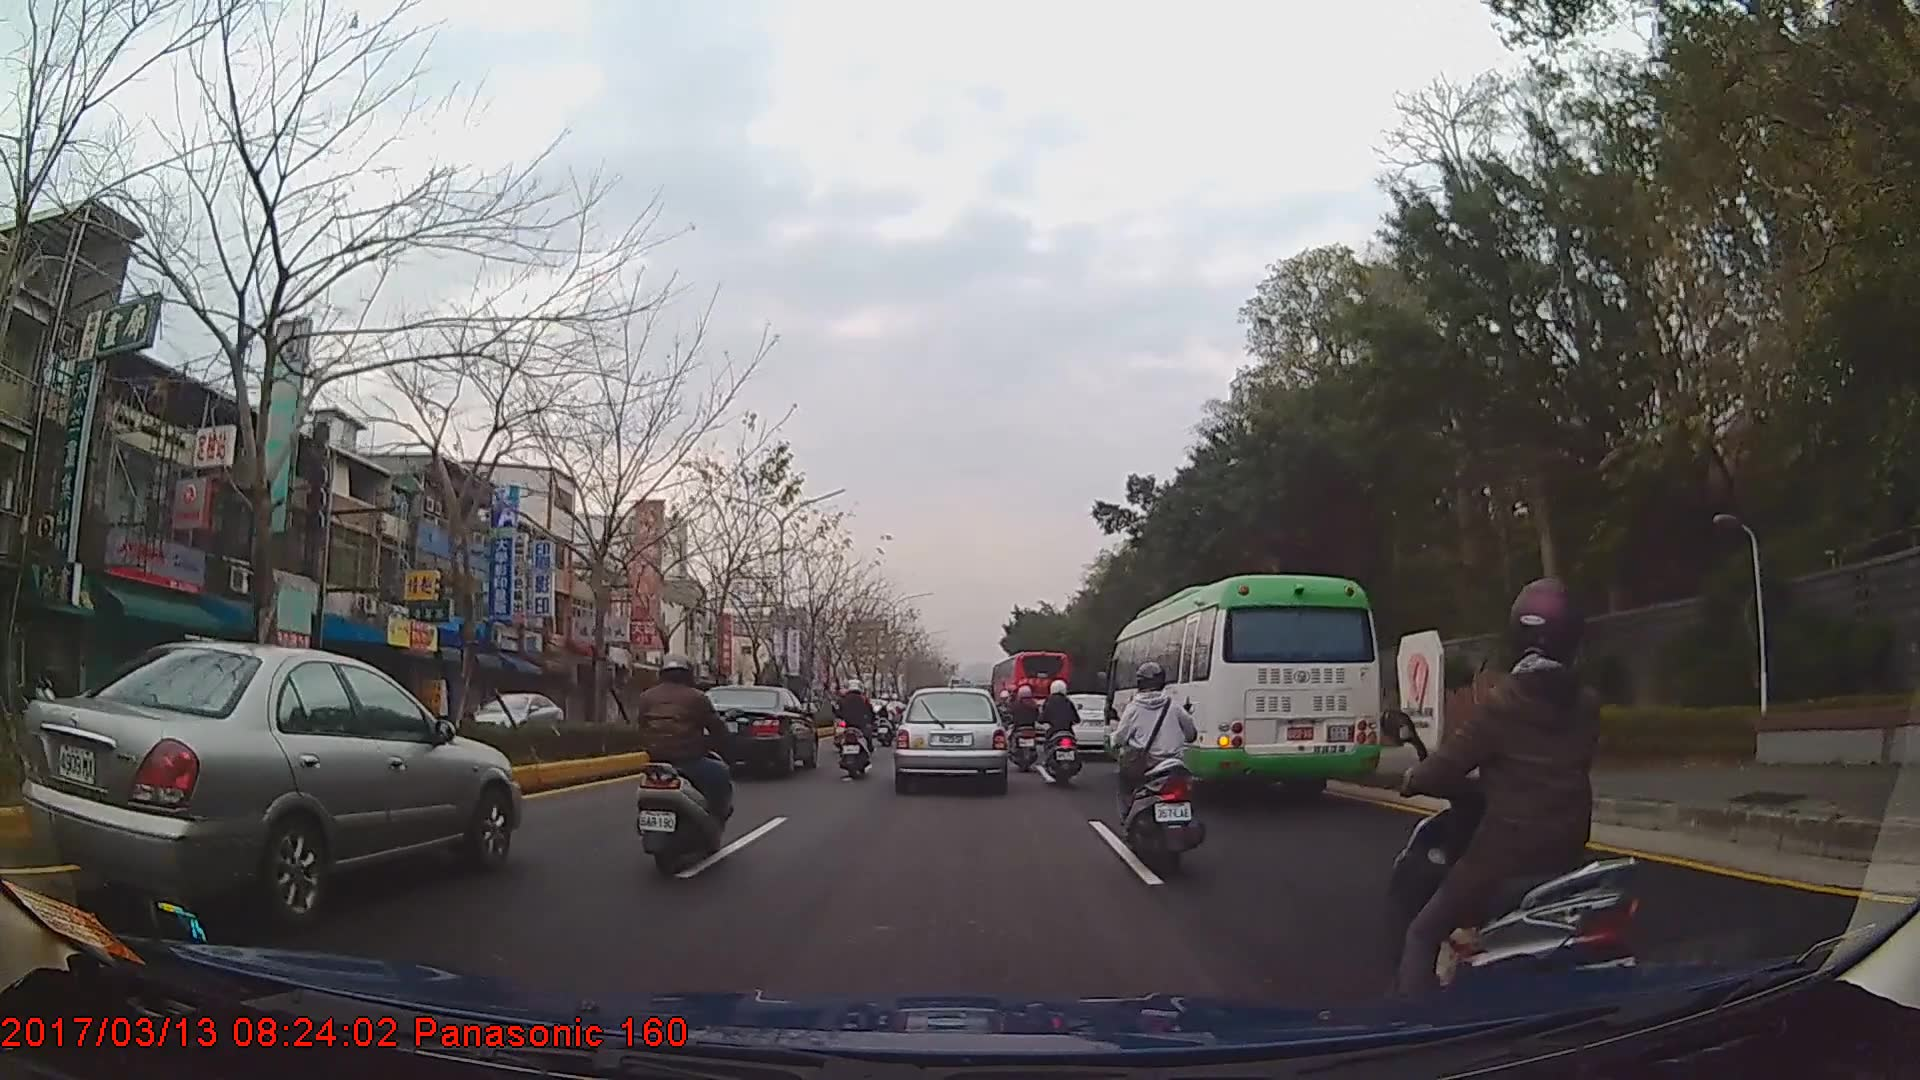rider: (1382, 574, 1646, 1039), (636, 648, 736, 880), (1116, 662, 1207, 878), (1039, 679, 1084, 786), (836, 678, 879, 779), (1009, 681, 1045, 773), (874, 692, 900, 746)
vehicle: (20, 638, 522, 915), (1105, 572, 1380, 800), (893, 686, 1009, 792), (683, 683, 819, 773), (992, 645, 1072, 738), (456, 690, 566, 749)
